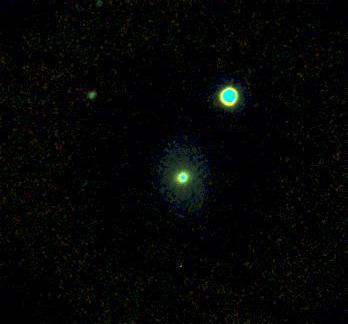star: (169, 250, 199, 280)
